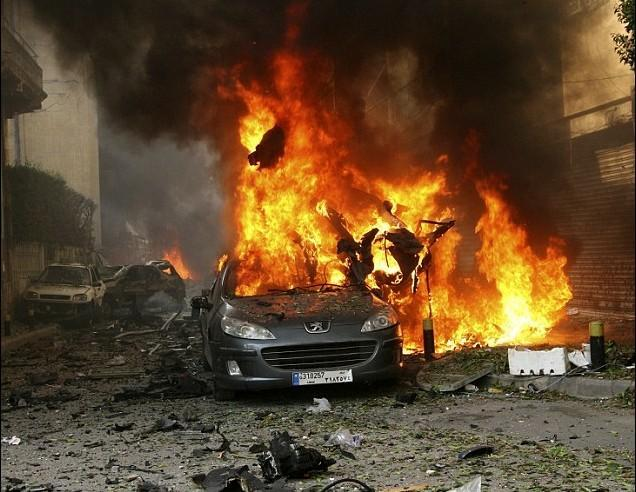fire: (176, 29, 572, 351)
